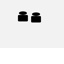human: (30, 9, 41, 23), (16, 10, 28, 22)
